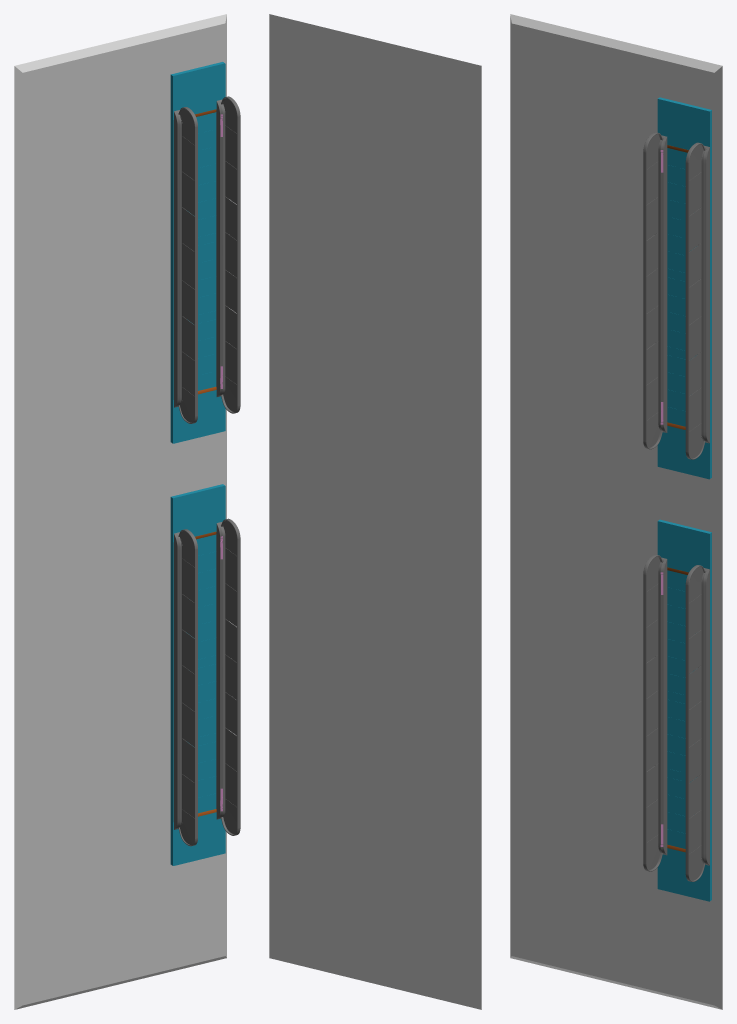
Rendered from walkway.obj.
3 renders of one model, left to right at view 1: azimuth 30°, elevation 25°; view 2: azimuth 150°, elevation 25°; view 3: azimuth 330°, elevation 25°, orthographic.
Visible parts, largest first — view 1: background.002_Cube.003, MovingWalkway_obj.307; view 2: background.002_Cube.003; view 3: background.002_Cube.003, MovingWalkway_obj.307.
Boxes of the visible parts, x1,y1,x2,y2 form: background.002_Cube.003: (14,14,226,1009); MovingWalkway_obj.307: (170,62,240,865); background.002_Cube.003: (269,14,481,1009); background.002_Cube.003: (510,14,722,1009); MovingWalkway_obj.307: (643,97,711,901).
Bounding box in the file's own units: 9.19 × 38.97 × 1.78.
